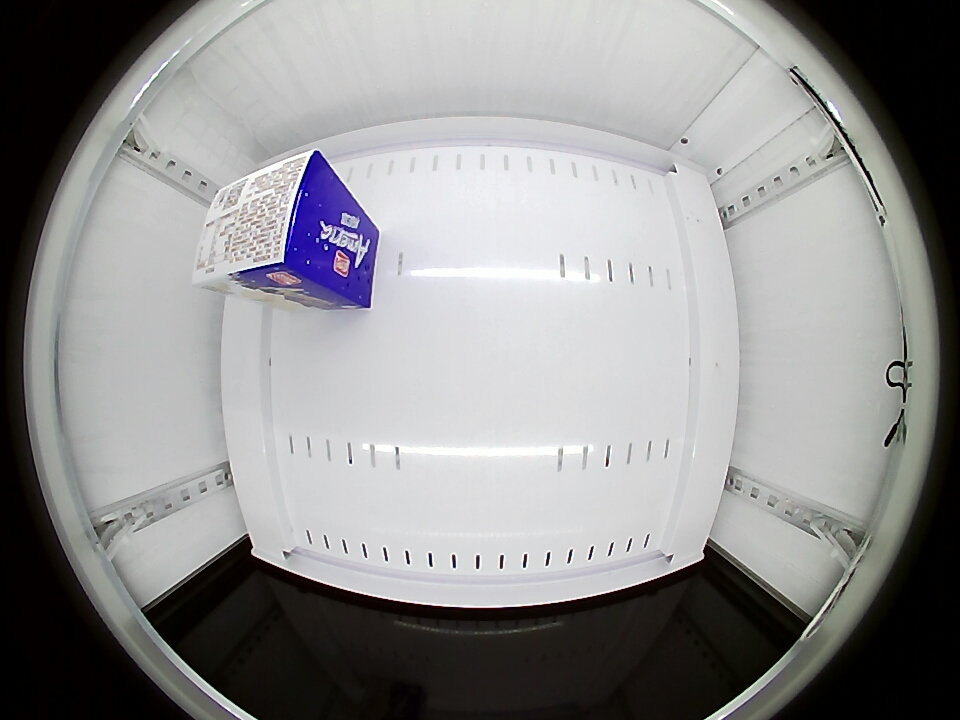meiniye: (190, 147, 340, 294)
